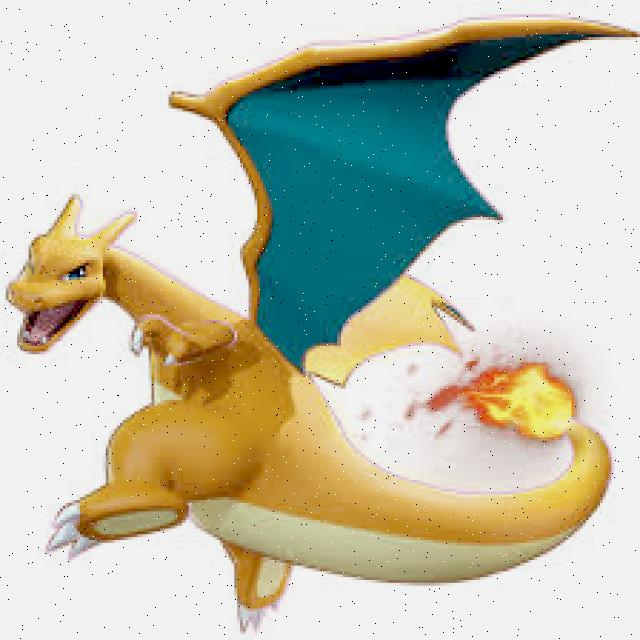charizard: (10, 10, 640, 631)
